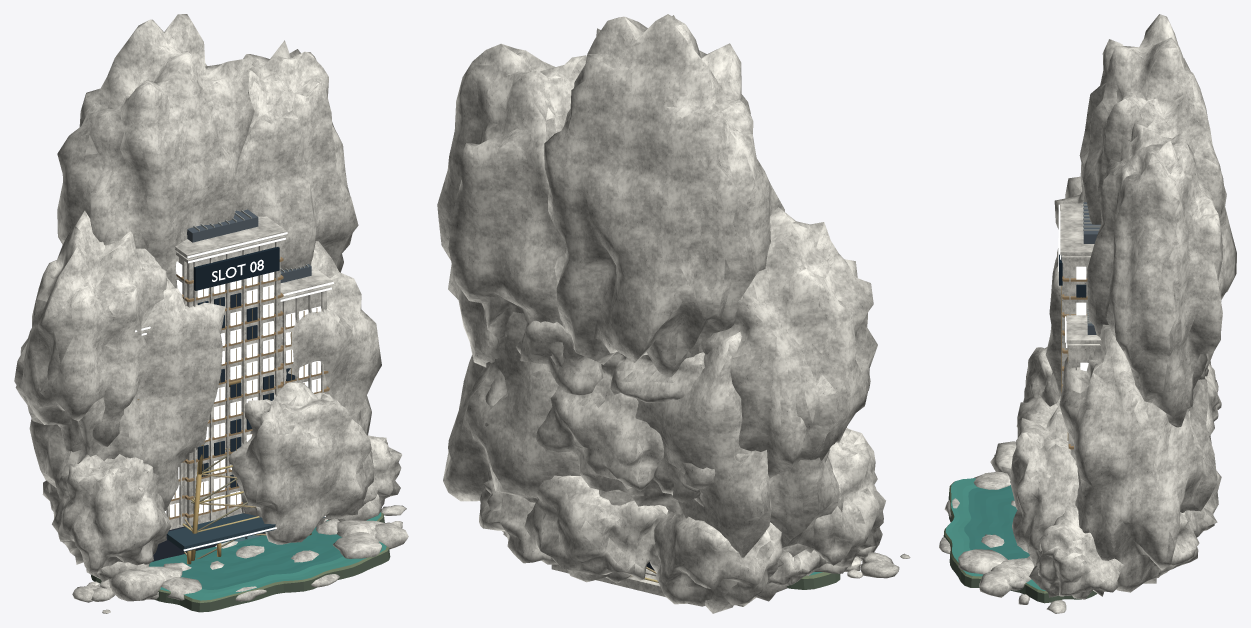
Rendered from scenery15.glb.
3 views of the same model, side by side, from view 1: azimuth 30°, elevation 25°; view 2: azimuth 150°, elevation 25°; view 3: azimuth 270°, elevation 25° (orthographic). The views are drawn at different scales.
Visible parts, largest first — view 1: PROP_alpine_cliff15_limestone, PROP_neon_hotel15_limestone, PROP_cascade15_water, PROP_cascade15_limestone, PROP_neon_hotel15_enamel, PROP_neon_hotel15_window_lit, PROP_neon_hotel15_brushed_alloy, PROP_cascade15_soil, PROP_neon_hotel15_glass, PROP_neon_tower15_brushed_alloy, PROP_neon_hotel15_neon; view 2: PROP_alpine_cliff15_limestone, PROP_cascade15_limestone, PROP_neon_tower15_limestone; view 3: PROP_alpine_cliff15_limestone, PROP_cascade15_limestone, PROP_cascade15_water, PROP_neon_hotel15_limestone, PROP_cascade15_soil, PROP_neon_hotel15_brushed_alloy, PROP_neon_hotel15_enamel.
Boxes of the visible parts, bbox=[...] form: PROP_alpine_cliff15_limestone: bbox=[14, 14, 406, 613]; PROP_neon_hotel15_limestone: bbox=[141, 216, 332, 529]; PROP_cascade15_water: bbox=[149, 512, 386, 600]; PROP_cascade15_limestone: bbox=[42, 480, 408, 601]; PROP_neon_hotel15_enamel: bbox=[152, 209, 324, 561]; PROP_neon_hotel15_window_lit: bbox=[165, 261, 320, 517]; PROP_neon_hotel15_brushed_alloy: bbox=[137, 210, 329, 564]; PROP_cascade15_soil: bbox=[90, 512, 390, 612]; PROP_neon_hotel15_glass: bbox=[197, 293, 295, 543]; PROP_neon_tower15_brushed_alloy: bbox=[182, 379, 266, 560]; PROP_neon_hotel15_neon: bbox=[135, 232, 333, 551]; PROP_alpine_cliff15_limestone: bbox=[437, 14, 910, 613]; PROP_cascade15_limestone: bbox=[479, 320, 880, 606]; PROP_neon_tower15_limestone: bbox=[551, 564, 665, 596]; PROP_alpine_cliff15_limestone: bbox=[981, 14, 1236, 613]; PROP_cascade15_limestone: bbox=[939, 353, 1221, 597]; PROP_cascade15_water: bbox=[945, 478, 1045, 590]; PROP_neon_hotel15_limestone: bbox=[1060, 203, 1156, 583]; PROP_cascade15_soil: bbox=[943, 481, 1097, 603]; PROP_neon_hotel15_brushed_alloy: bbox=[1061, 204, 1100, 449]; PROP_neon_hotel15_enamel: bbox=[1059, 202, 1100, 334].
Bounding box in the file's own units: 2.89 × 4 × 2.15.
9 materials, 1 textured.
